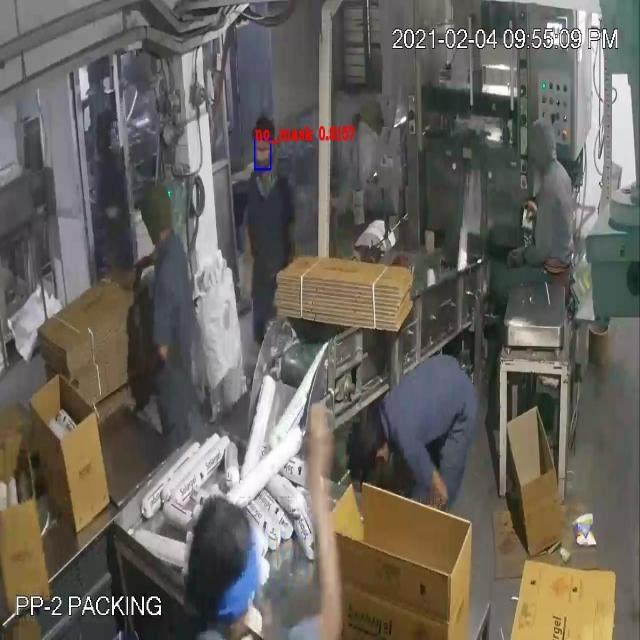No_Gloves: (20, 55, 513, 490)
